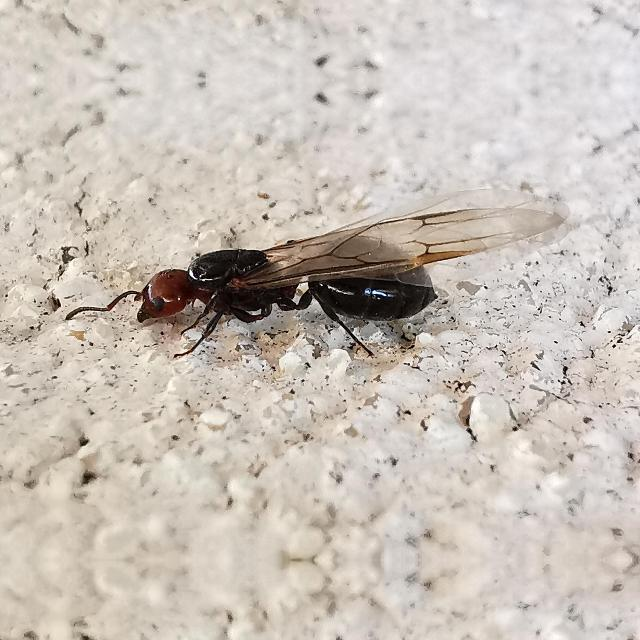Crematogaster: (132, 205, 430, 351)
